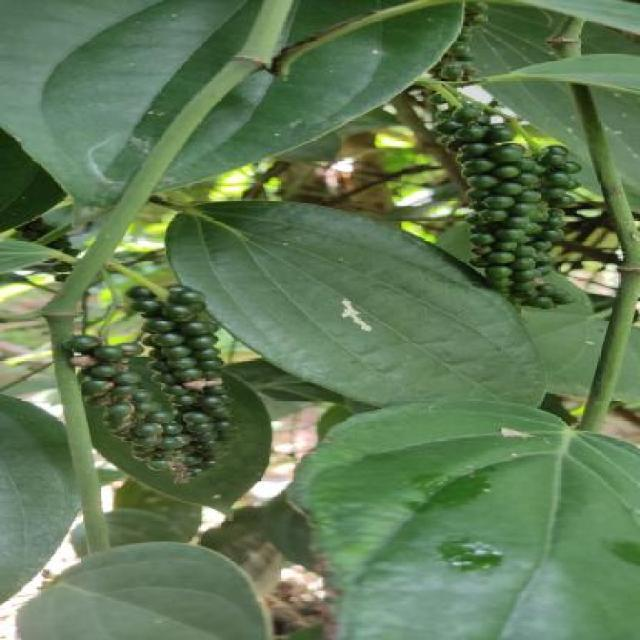UNRIPE: (61, 286, 232, 474), (435, 105, 576, 308), (440, 3, 488, 83)
